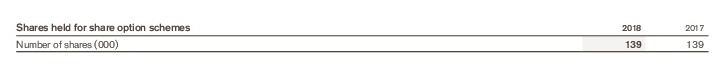table: (0, 0, 726, 67)
